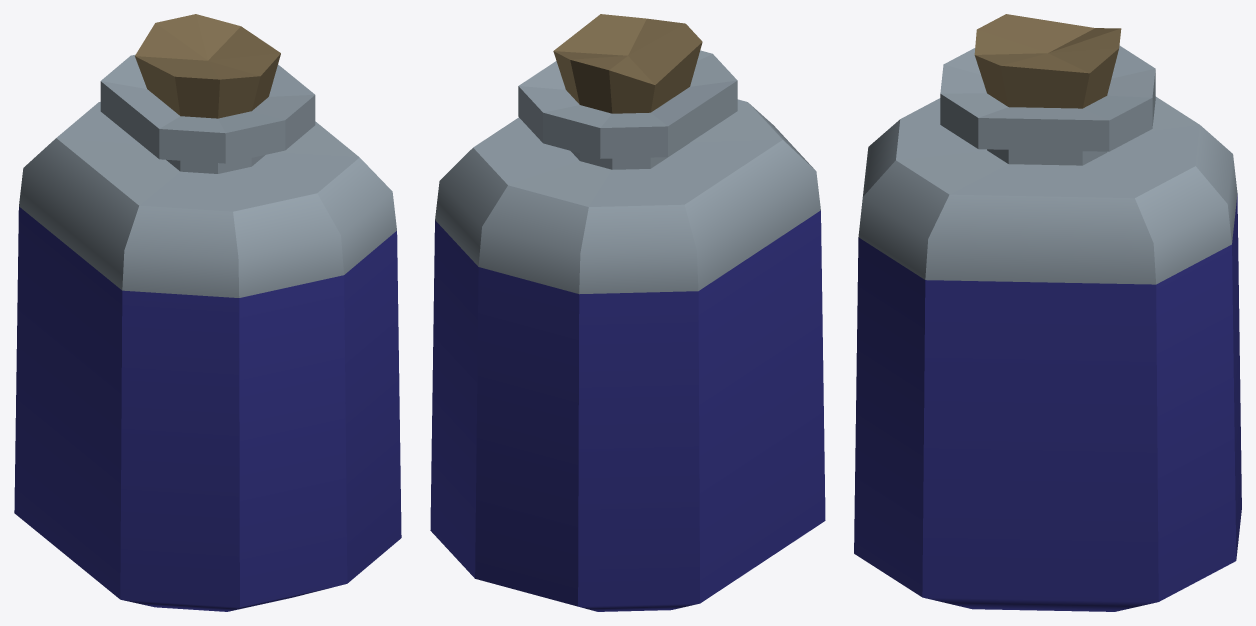
The model's file is Sleep_Potion.fbx.
The picture shows the model from 3 angles, left to right: view 1: azimuth 30°, elevation 25°; view 2: azimuth 150°, elevation 25°; view 3: azimuth 270°, elevation 25°; orthographic projection. The views are drawn at different scales.
Parts seen in each view (by area): view 1: pCylinder4; view 2: pCylinder4; view 3: pCylinder4.
Part boxes in pixels (x1=…): pCylinder4: x1=14, y1=14, x2=401, y2=611; pCylinder4: x1=430, y1=14, x2=825, y2=611; pCylinder4: x1=854, y1=14, x2=1241, y2=611.
Bounding box in the file's own units: 17.59 × 30.74 × 20.31.
